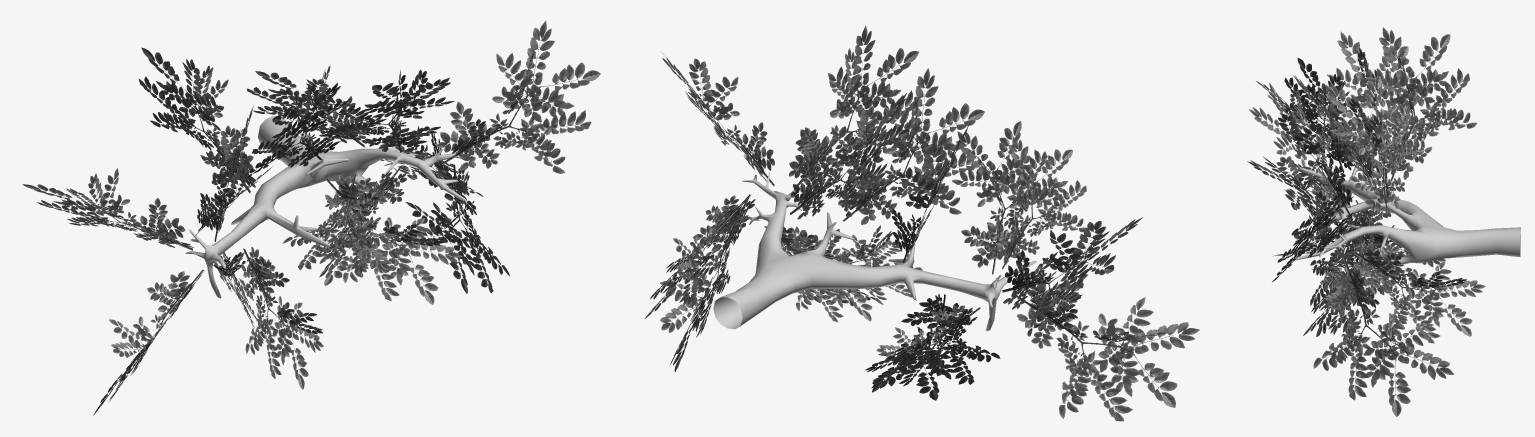
File: Tree06_Foliage.fbx
3 renders of one model, left to right at view 1: azimuth 30°, elevation 25°; view 2: azimuth 150°, elevation 25°; view 3: azimuth 270°, elevation 25°, orthographic. The views are drawn at different scales.
Visible parts, largest first — view 1: Tree1.004; view 2: Tree1.004; view 3: Tree1.004.
Part boxes in pixels (x1,y1,x2,y2): Tree1.004: [22, 21, 600, 415]; Tree1.004: [644, 26, 1199, 421]; Tree1.004: [1247, 27, 1520, 416].
Bounding box in the file's own units: 635 × 390 × 339.
